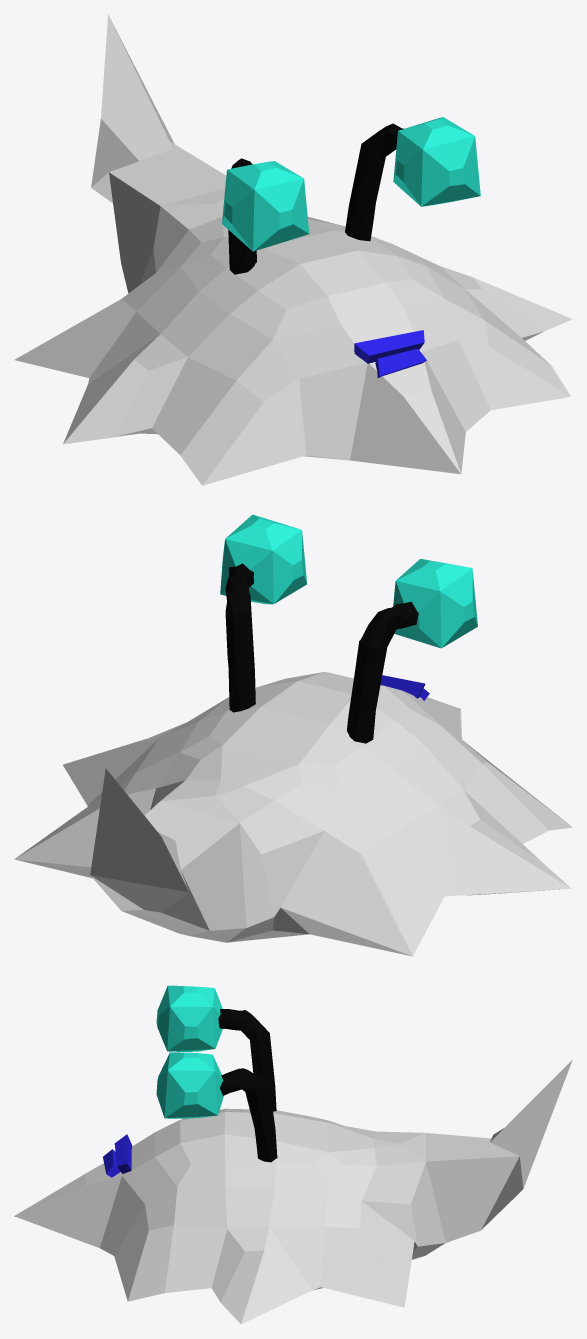
File: species_04_rs.glb
3 views of the same model, one above another, from view 1: azimuth 30°, elevation 25°; view 2: azimuth 150°, elevation 25°; view 3: azimuth 270°, elevation 25° (orthographic). The views are drawn at different scales.
Parts seen in each view (by area): view 1: Quad Sphere, Sphere.001, Sphere, Cylinder.001, Sphere.002, Cylinder, Sphere.003; view 2: Quad Sphere, Sphere, Sphere.001, Cylinder, Cylinder.001; view 3: Quad Sphere, Sphere.001, Sphere, Cylinder.001, Cylinder, Sphere.002.
Boxes of the visible parts, box(x1,y1,x2,y2) form: Quad Sphere: box(14, 14, 572, 485); Sphere.001: box(393, 117, 480, 206); Sphere: box(222, 161, 309, 251); Cylinder.001: box(345, 123, 403, 241); Sphere.002: box(354, 330, 424, 363); Cylinder: box(228, 158, 256, 274); Sphere.003: box(375, 348, 426, 377); Quad Sphere: box(14, 671, 572, 956); Sphere: box(393, 559, 477, 648); Sphere.001: box(220, 514, 306, 604); Cylinder: box(347, 601, 418, 743); Cylinder.001: box(225, 563, 255, 712); Quad Sphere: box(14, 1059, 572, 1324); Sphere.001: box(156, 1052, 223, 1118); Sphere: box(156, 985, 222, 1051); Cylinder.001: box(220, 1068, 277, 1162); Cylinder: box(218, 1009, 276, 1111); Sphere.002: box(114, 1134, 132, 1173).
Size of the model in its own units: 3.58 by 1.98 by 4.31.
